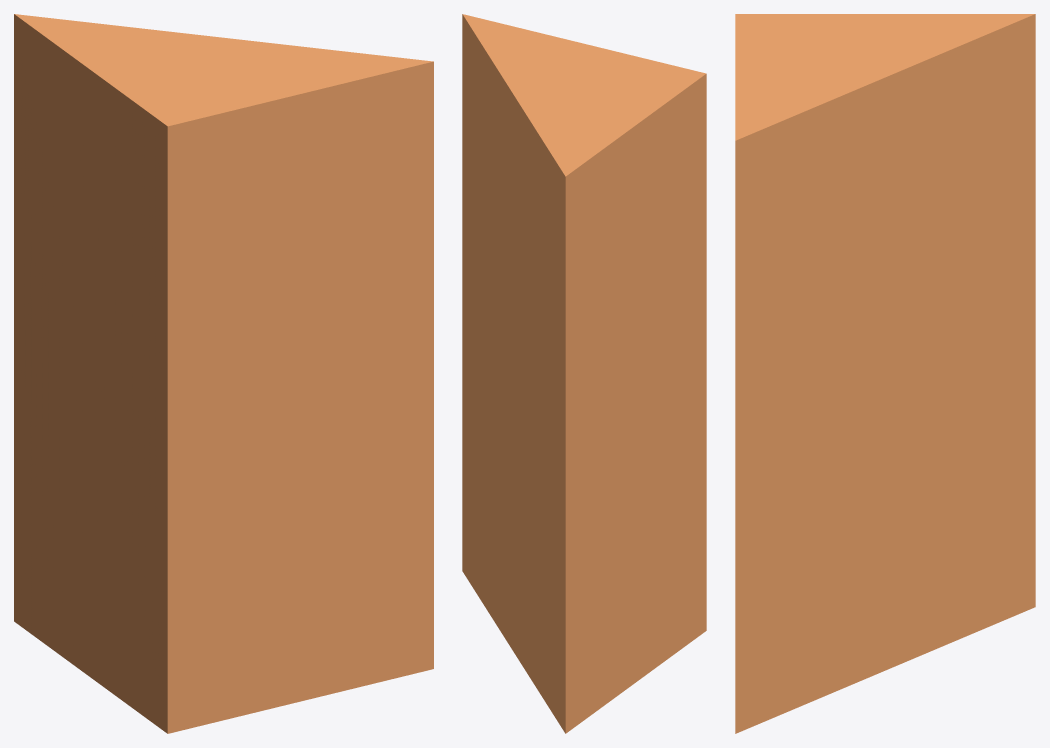
The model's file is cliffBrown_cornerMid.obj.
3 views of the same model, side by side, from view 1: azimuth 30°, elevation 25°; view 2: azimuth 150°, elevation 25°; view 3: azimuth 270°, elevation 25° (orthographic). The views are drawn at different scales.
Parts seen in each view (by area): view 1: cliffBrown_cornerMid; view 2: cliffBrown_cornerMid; view 3: cliffBrown_cornerMid.
Part boxes in pixels (x1=…): cliffBrown_cornerMid: x1=14, y1=14, x2=433, y2=733; cliffBrown_cornerMid: x1=462, y1=14, x2=706, y2=733; cliffBrown_cornerMid: x1=735, y1=14, x2=1035, y2=733.
Size of the model in its own units: 4.58 by 10 by 4.58.
